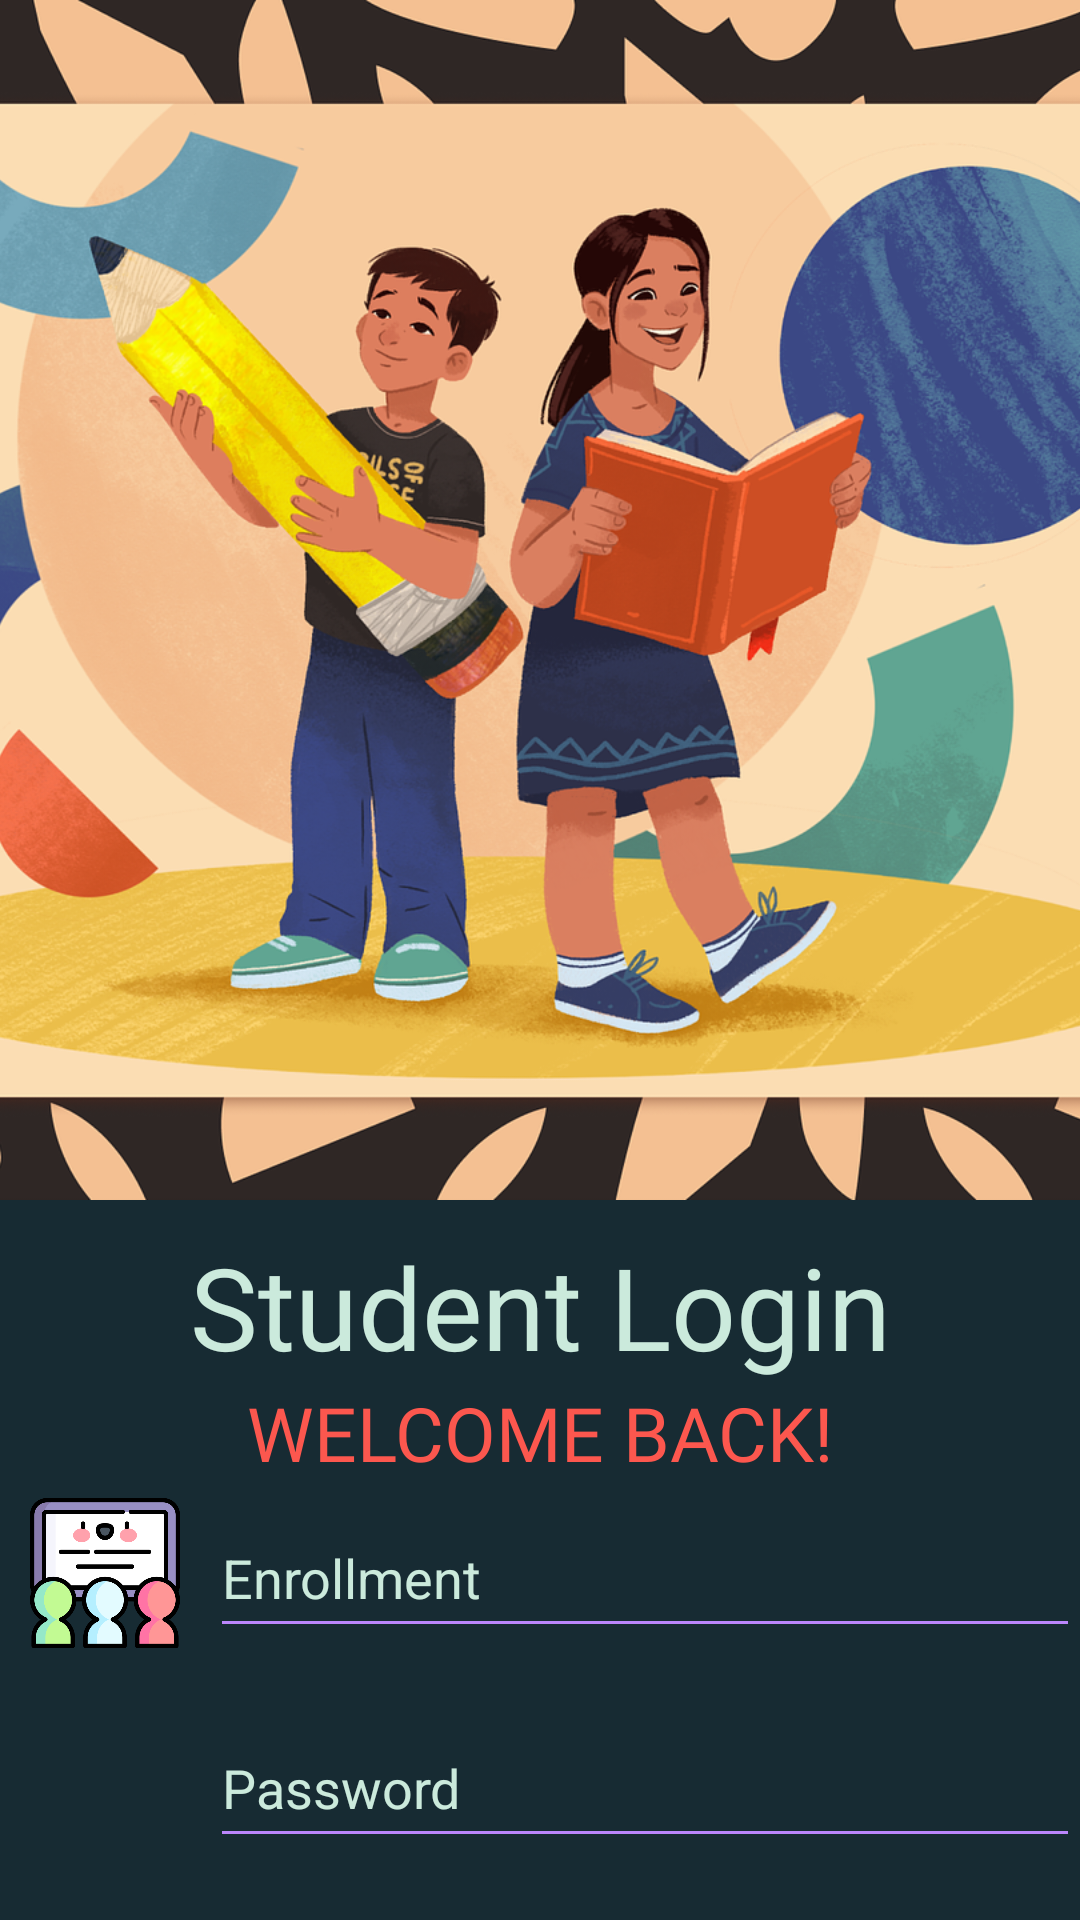

Locate icon controls on the screen. Image size 1080px×1920px, boxes as [x1, y1, x2, y2].
class: [30, 1498, 180, 1648]
